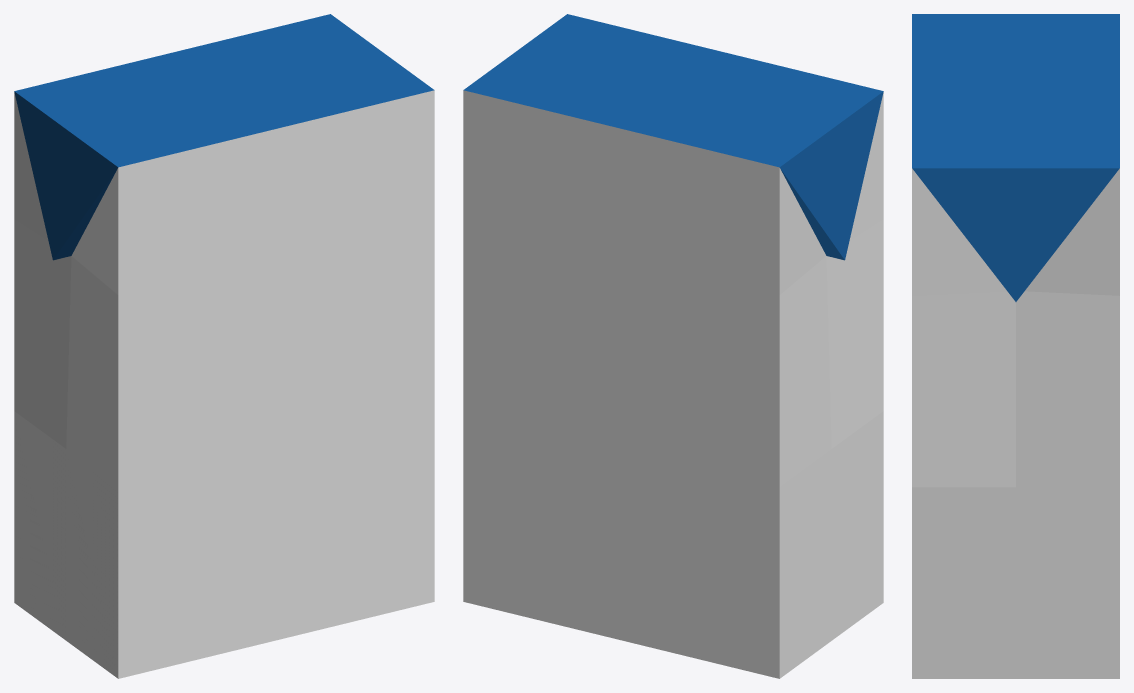
File: Tetrabrik_00.fbx
The picture shows the model from 3 angles, left to right: view 1: azimuth 30°, elevation 25°; view 2: azimuth 150°, elevation 25°; view 3: azimuth 270°, elevation 25°; orthographic projection.
Parts seen in each view (by area): view 1: Tetrabrik_00; view 2: Tetrabrik_00; view 3: Tetrabrik_00.
Boxes of the visible parts, left/top/right/bottom form: Tetrabrik_00: left=14, top=14, right=434, bottom=678; Tetrabrik_00: left=463, top=14, right=883, bottom=678; Tetrabrik_00: left=912, top=14, right=1119, bottom=678.
Bounding box in the file's own units: 41.59 × 59.26 × 21.87.
